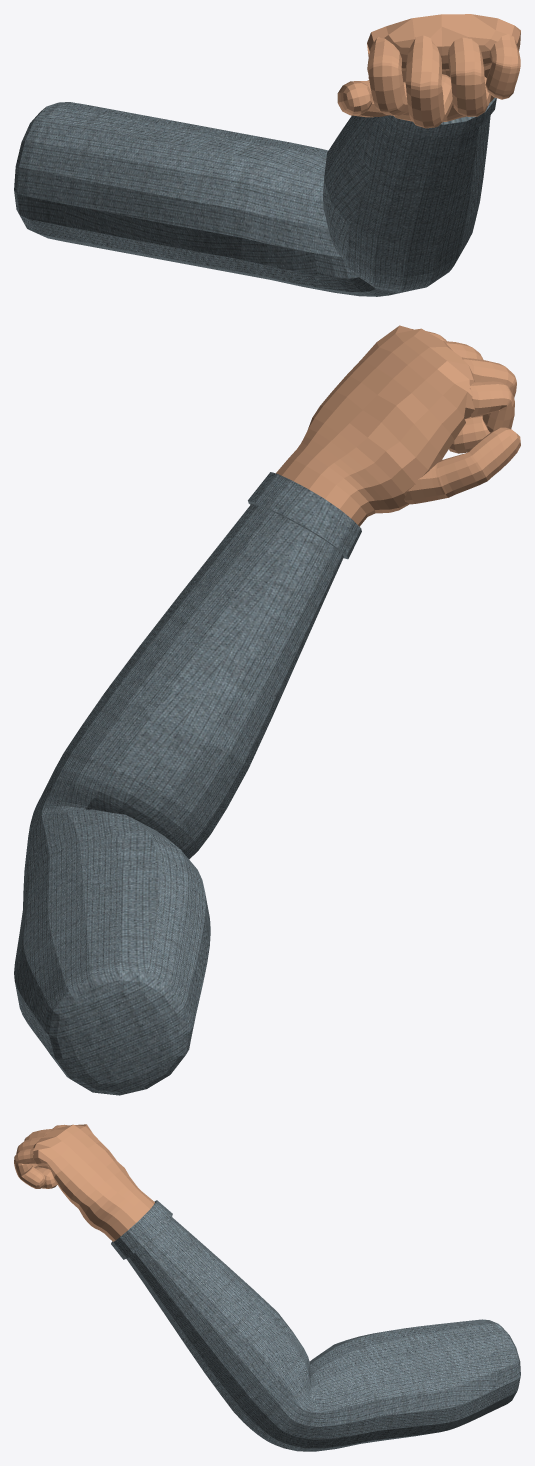
Rendered from brazo.obj.
The picture shows the model from 3 angles, top to bottom: view 1: azimuth 30°, elevation 25°; view 2: azimuth 150°, elevation 25°; view 3: azimuth 270°, elevation 25°; orthographic projection. The views are drawn at different scales.
Visible parts, largest first — view 1: BRAZO.001_Cube.001; view 2: BRAZO.001_Cube.001; view 3: BRAZO.001_Cube.001.
Part boxes in pixels (bbox=[...]): BRAZO.001_Cube.001: bbox=[14, 14, 520, 296]; BRAZO.001_Cube.001: bbox=[14, 325, 520, 1095]; BRAZO.001_Cube.001: bbox=[14, 1124, 520, 1451].
Bounding box in the file's own units: 0.4968 × 0.7423 × 1.19.
2 materials, 2 textured.
